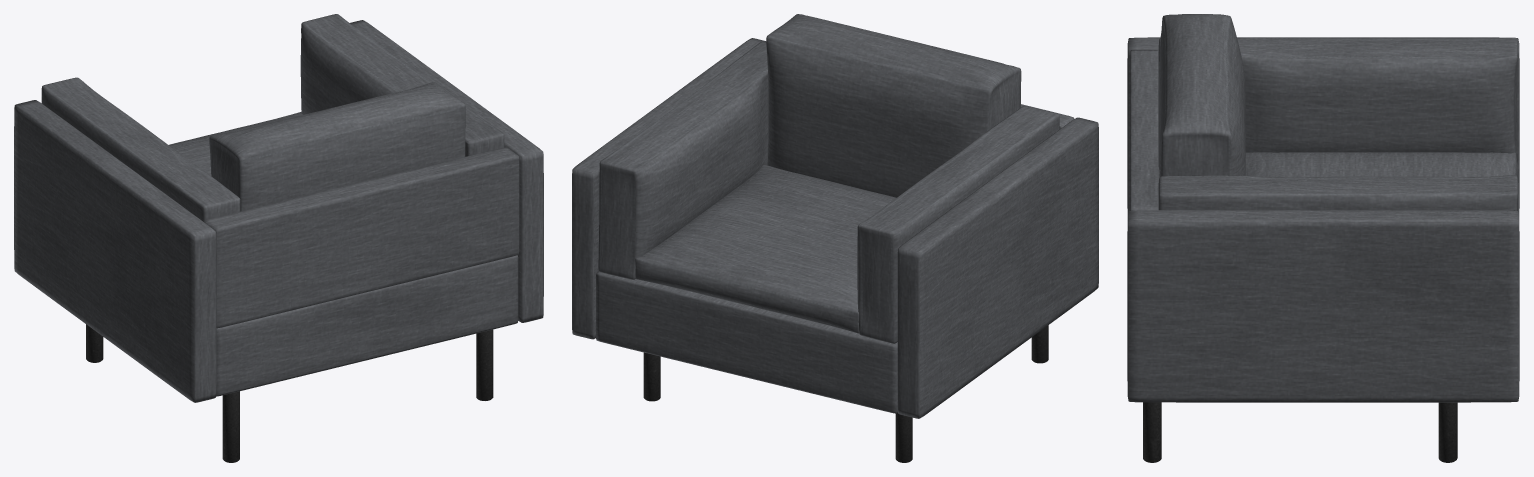
Rendered from Chair42.fbx.
The picture shows the model from 3 angles, left to right: view 1: azimuth 30°, elevation 25°; view 2: azimuth 150°, elevation 25°; view 3: azimuth 270°, elevation 25°; orthographic projection. The views are drawn at different scales.
Visible parts, largest first — view 1: Chair42; view 2: Chair42; view 3: Chair42.
Part boxes in pixels (x1,y1,x2,y2): Chair42: (14,14,543,462); Chair42: (572,14,1098,462); Chair42: (1127,14,1519,462).
Bounding box in the file's own units: 83.56 × 69.2 × 74.76.
